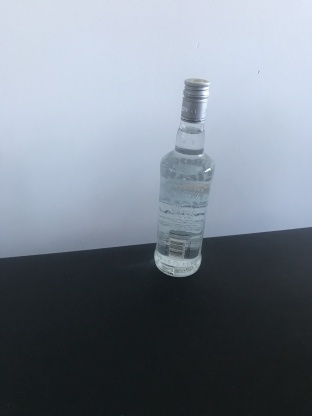nakretka: (179, 77, 211, 125)
